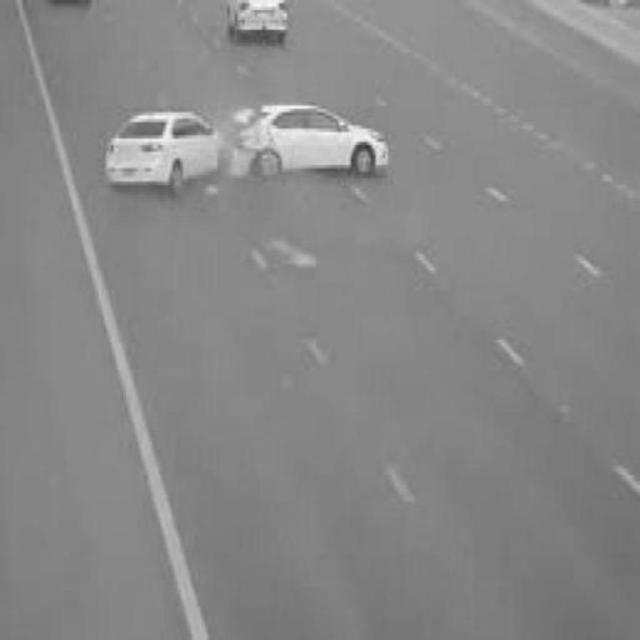accident: (98, 107, 390, 184)
